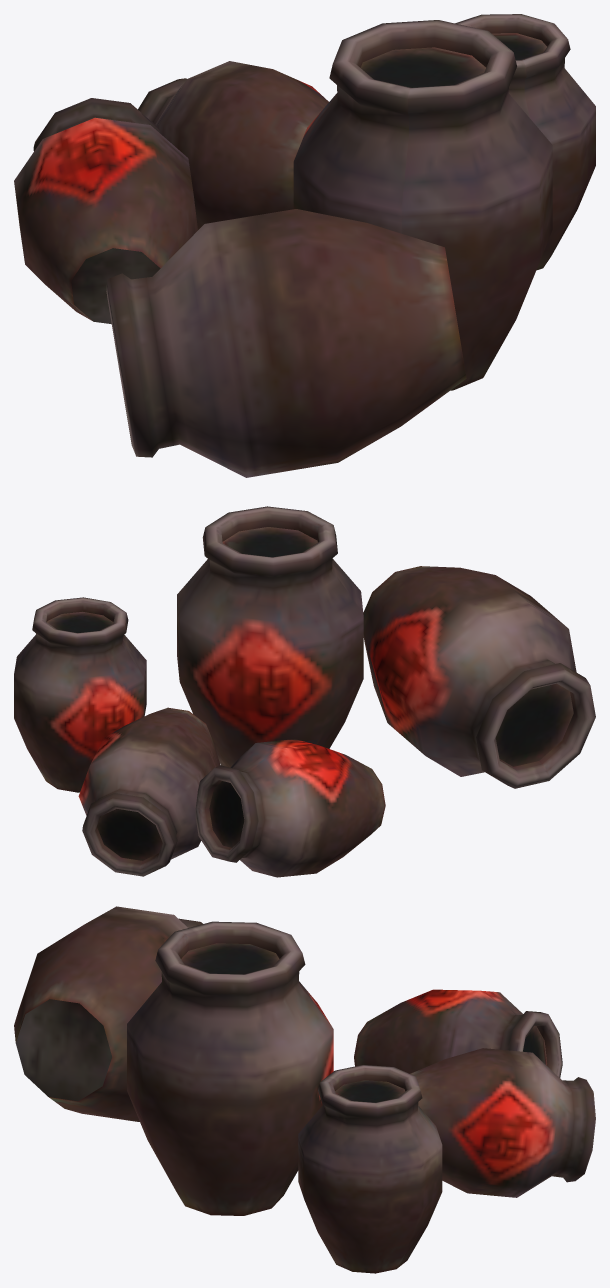
The model's file is cj_luoyang_guanzi01_56_17_0318out.fbx.
The picture shows the model from 3 angles, top to bottom: view 1: azimuth 30°, elevation 25°; view 2: azimuth 150°, elevation 25°; view 3: azimuth 270°, elevation 25°; orthographic projection. The views are drawn at different scales.
Visible parts, largest first — view 1: cj_luoyang_guanzi01; view 2: cj_luoyang_guanzi01; view 3: cj_luoyang_guanzi01.
Part boxes in pixels (x1=…): cj_luoyang_guanzi01: x1=14, y1=14, x2=595, y2=477; cj_luoyang_guanzi01: x1=14, y1=506, x2=595, y2=877; cj_luoyang_guanzi01: x1=14, y1=906, x2=595, y2=1273.
Bounding box in the file's own units: 3.29 × 1.58 × 3.4.
